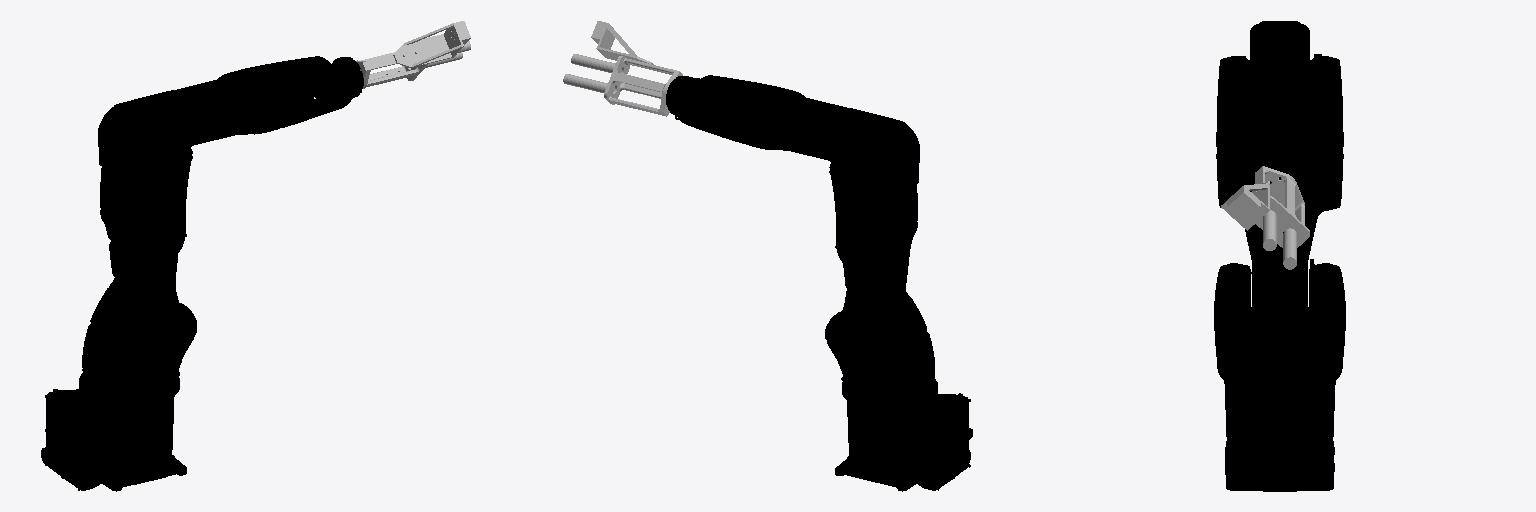
The robot description file, URDF, robot "mz07L":
<?xml version="1.0" encoding="utf-8"?>

<robot name="mz07L">
  <link name="base_link">
    <visual>
      <geometry>
        <mesh filename="package://mz07l_description/meshes/visual/mz07_base_link.dae" />
      </geometry>
      <material name="white">
        <color rgba="0 0 0 0.9"/>
      </material>
    </visual>
    <collision>
      <geometry>
        <mesh filename="package://mz07l_description/meshes/collision/mz07_base_link.STL" />
      </geometry>
    </collision>
  </link>
  <link name="link1">
    <visual>
      <geometry>
        <mesh filename="package://mz07l_description/meshes/visual/mz07_link1.dae" />
      </geometry>
      <material name="white">
        <color rgba="0 0 0 0.9"/>
      </material>
    </visual>
    <collision>
      <geometry>
        <mesh filename="package://mz07l_description/meshes/collision/mz07_link1.STL" />
      </geometry>
    </collision>
  </link>
  <joint name="joint_base_to_link1" type="revolute">
    <origin xyz="0 0 0.195" rpy="0 0 0" />
    <parent link="base_link" />
    <child link="link1" />
    <axis xyz="0 0 1" />
    <limit effort="100" lower="-2.9670" upper="2.9670" velocity="5.2359" />
  </joint>
  <link name="link2">
    <visual>
      <geometry>
        <mesh filename="package://mz07l_description/meshes/visual/mz07_link2.dae" />
      </geometry>
      <material name="white">
        <color rgba="0 0 0 0.9"/>
      </material>
    </visual>
    <collision>
      <geometry>
        <mesh filename="package://mz07l_description/meshes/collision/mz07_link2.STL" />
      </geometry>
    </collision>
  </link>
  <joint name="joint_link1_to_link2" type="revolute">
    <origin xyz="0.05 0 0.15" rpy="0 0 0" />
    <parent link="link1" />
    <child link="link2" />
    <axis xyz="0 -1 0" />
    <limit effort="100" lower="-2.3561" upper="1.3962" velocity="4.8869" />
  </joint>
  <link name="link3">
    <visual>
      <geometry>
        <mesh filename="package://mz07l_description/meshes/visual/mz07_link3.dae" />
      </geometry>
      <material name="white">
        <color rgba="0 0 0 0.9"/>
      </material>
    </visual>
    <collision>
      <geometry>
        <mesh filename="package://mz07l_description/meshes/collision/mz07_link3.STL" />
      </geometry>
    </collision>
  </link>
  <joint name="joint_link2_to_link3" type="revolute">
    <origin xyz="0 0 0.410" rpy="0 0 0" />
    <parent link="link2" />
    <child link="link3" />
    <axis xyz="0 -1 0" />
    <limit effort="100" lower="-2.373648" upper="4.712389" velocity="6.283185" />
  </joint>
  <link name="link4">
    <visual>
      <geometry>
        <mesh filename="package://mz07l_description/meshes/visual/mz07_link4.dae" />
      </geometry>
      <material name="white">
        <color rgba="0 0 0 0.9"/>
      </material>
    </visual>
    <collision>
      <geometry>
        <mesh filename="package://mz07l_description/meshes/collision/mz07_link4.STL" />
      </geometry>
    </collision>
  </link>
  <joint name="joint_link3_to_link4" type="revolute">
    <origin xyz="0.09 0 0.045" rpy="0 0 0" />
    <parent link="link3" />
    <child link="link4" />
    <axis xyz="1 0 0" />
    <limit effort="100" lower="-3.316126" upper="3.316126" velocity="9.599311" />
  </joint>
  <link name="link5">
    <visual>
      <geometry>
        <mesh filename="package://mz07l_description/meshes/visual/mz07_link5.dae" />
      </geometry>
      <material name="white">
        <color rgba="0 0 0 0.9"/>
      </material>
    </visual>
    <collision>
      <geometry>
        <mesh filename="package://mz07l_description/meshes/collision/mz07_link5.STL" />
      </geometry>
    </collision>
  </link>
  <joint name="joint_link4_to_link5" type="revolute">
    <origin xyz="0.350 0 0" rpy="0 0 0" />
    <parent link="link4" />
    <child link="link5" />
    <axis xyz="0 -1 0" />
    <limit effort="100" lower="-2.0943" upper="2.0943" velocity="9.599311" />
  </joint>
  <link name="link6">
    <visual>
    <origin xyz="0 0 0" rpy="0 0 0" />
      <geometry>
        <mesh filename="package://mz07l_description/meshes/visual/mz07_link6.dae" />
      </geometry>
      <material name="white">
        <color rgba="0 0 0 0.9"/>
      </material>
    </visual>
    <collision>
      <geometry>
        <mesh filename="package://mz07l_description/meshes/collision/mz07_link6.STL" />
      </geometry>
    </collision>
  </link>
  <joint name="joint_link5_to_link6" type="revolute">
    <origin xyz="0.073 0 0" rpy="0 1.570796 0" />
    <parent link="link5" />
    <child link="link6" />
    <axis xyz="0 0 1" />
    <limit effort="100" lower="-6.283185" upper="6.283185" velocity="17.453293" />
  </joint>

  <joint name="gripper_joint" type="fixed">
    <parent link="link6" />
    <child link="gripper" />
    <origin rpy="0 0 0.78539816339" xyz="0 0 0" />
  </joint>

  <link name="gripper">
    <visual>
      <geometry>
          <mesh filename="package://mz07l_description/meshes/visual/ssrs_gripper_V1.dae" />
      </geometry>
      <material name="grey">
        <color rgba="0.75 0.75 0.75 1"/>
      </material>
    </visual>
    <collision>
      <geometry>
          <mesh filename="package://mz07l_description/meshes/collision/ssrs_gripper_V1.stl" />
      </geometry>
    </collision>
  </link>

  <link name="tcp"/>
  <joint name="tcp_joint" type="fixed">
    <origin rpy="0 0 0" xyz="0 0 0.2702"/>
    <parent link="gripper"/>
    <child link="tcp"/>
    <axis xyz="0 0 1"/>
  </joint>


  <!-- <link name="gripper">
    <visual>
      <geometry>
          <mesh filename="package://mz07l_description/meshes/visual/piab_single_cup.dae" />
      </geometry>
      <material name="grey">
        <color rgba="0.75 0.75 0.75 1"/>
      </material>
    </visual>
    <collision>
      <geometry>
          <mesh filename="package://mz07l_description/meshes/collision/piab_single_cup.stl" />
      </geometry>
    </collision>
  </link>

  <joint name="gripper_joint" type="fixed">
      <parent link="link6" />
      <child link="gripper" />
      <origin rpy="0 0 0" xyz="0 0 0" />
  </joint>

  <link name="tcp"/>
  <joint name="tcp_joint" type="fixed">
    <origin rpy="0 0 -3.141592653589793" xyz="0 0 0.3"/>
    <parent link="gripper"/>
    <child link="tcp"/>
  </joint> -->

  <!-- robot-gripper adaptor mount -->
  <!-- <link name="gripper">
    <visual>
      <geometry>
          <mesh filename="package://mz07l_description/meshes/visual/piab_single_cup.dae" />
      </geometry>
      <material name="grey">
        <color rgba="0.75 0.75 0.75 1"/>
      </material>
    </visual>
    <collision>
      <geometry>
          <mesh filename="package://mz07l_description/meshes/collision/piab_single_cup.stl" />
      </geometry>
    </collision>
  </link>

  <joint name="gripper_joint" type="fixed">
      <parent link="link6" />
      <child link="gripper" />
      <origin rpy="1.570796 0 0" xyz="-0.035 0.035 0" />
  </joint> -->

  <!-- with spring gripper -->
  <!-- <link name="mount">
      <visual>
        <origin xyz="0 0 -0.074" rpy="0 0 0" />
            <geometry>
              <cylinder radius="0.019" length="0.1"/>
            </geometry>
            <material name="Cyan">
                <color rgba="0 1.0 1.0 1.0"/>
            </material>
      </visual>
      <collision>
          <origin xyz="0 0 -0.074" rpy="0 0 0"/>
            <geometry>
              <cylinder radius="0.019" length="0.1"/>
            </geometry>
      </collision>
  </link>

  <joint name="mount_joint" type="fixed">
    <origin rpy="1.570796 0 0" xyz="0.035 0.11 0.035"/>
    <parent link="gripper"/>
    <child link="mount"/>
  </joint>

  <link name="tcp"/>
  <joint name="tcp_joint" type="fixed">
      <origin rpy="0 3.141592653589793 0" xyz="0 0 -0.185"/>
      <parent link="mount"/>
      <child link="tcp"/>
  </joint> -->

</robot>

--- What the picture shows (computed from the rendered views, not written in the file) ---
The picture shows the robot from 3 angles, left to right: view 1: azimuth 30°, elevation 25°; view 2: azimuth 150°, elevation 25°; view 3: azimuth 270°, elevation 25°; orthographic projection.
Robot: mz07L — 9 links, 8 joints (6 revolute, 2 fixed); root link base_link; default pose: every joint at zero.
Links seen in each view (by area): view 1: link2, base_link, link1, link4, link3, gripper, link5; view 2: link2, base_link, link1, link4, link3, gripper, link5; view 3: link2, link1, base_link, link4, gripper, link3, link5.
Boxes of the visible links, x1,y1,x2,y2 form: link2: (100,132,192,338); base_link: (41,389,186,491); link1: (79,282,196,407); link4: (177,56,355,144); link3: (98,90,198,185); gripper: (356,21,470,88); link5: (304,57,362,97); link2: (829,147,917,345); base_link: (835,393,972,491); link1: (825,292,937,411); link4: (674,75,842,159); link3: (824,107,919,197); gripper: (563,21,682,116); link5: (666,76,725,114); link2: (1216,54,1343,337); link1: (1214,259,1345,398); base_link: (1224,381,1335,491); link4: (1242,59,1317,197); gripper: (1221,166,1309,269); link3: (1243,21,1311,94); link5: (1253,147,1306,196).
Size in the robot's own frame: 1.02 by 0.23 by 0.9029 metres.
8 mesh visuals loaded from 8 distinct referenced files (8 Collada DAE).
